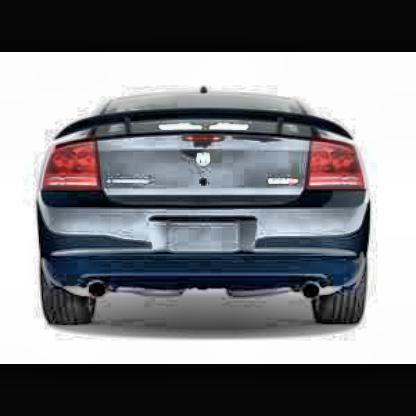Dodge Charger SRT-8 2009: (37, 91, 372, 332)
